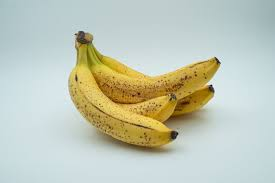banana: (62, 29, 222, 154)
